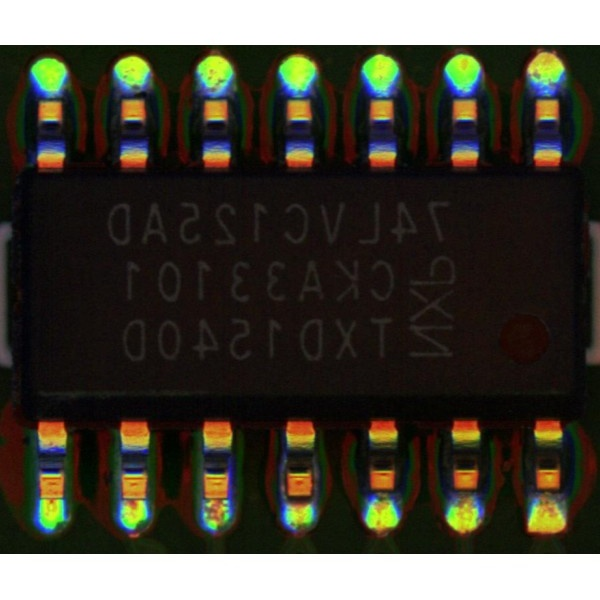Bad_podu: (41, 488, 60, 512), (205, 491, 227, 509), (125, 493, 143, 514)
